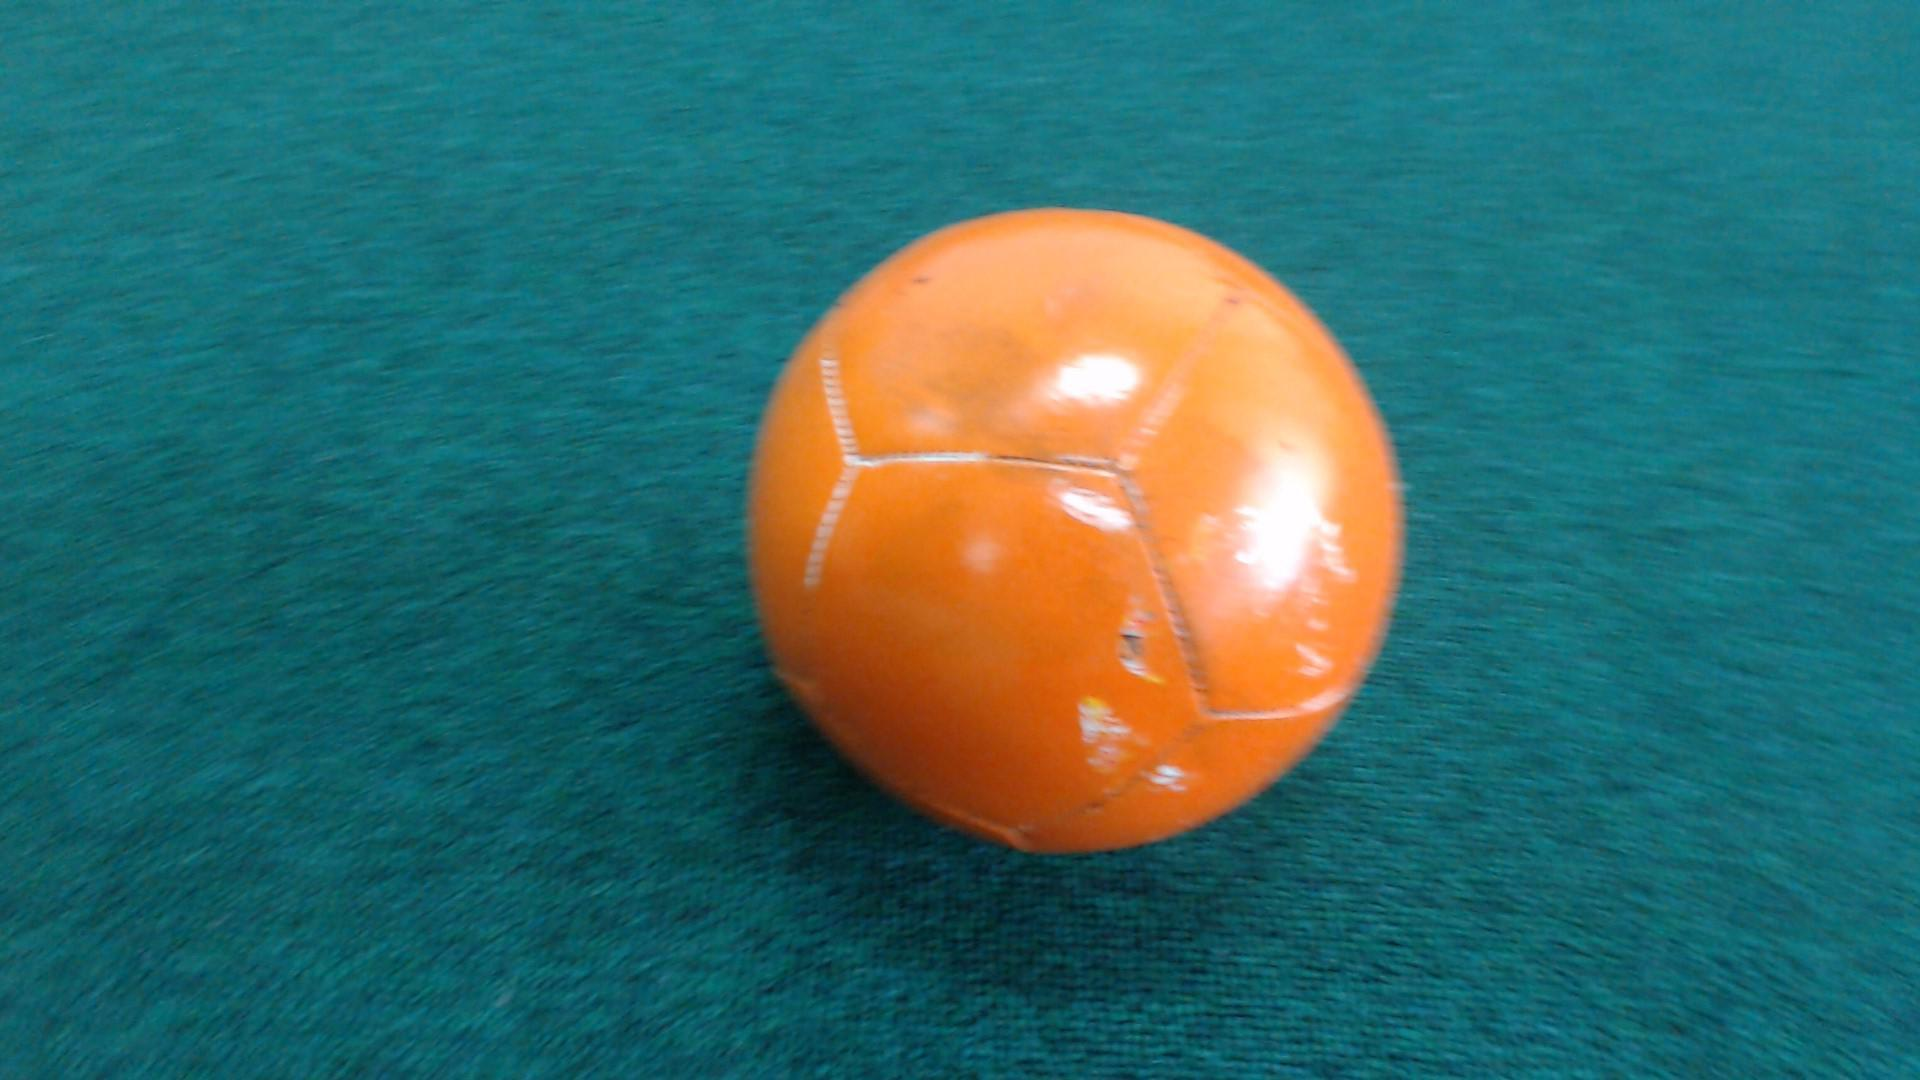bola: (711, 193, 1433, 893)
